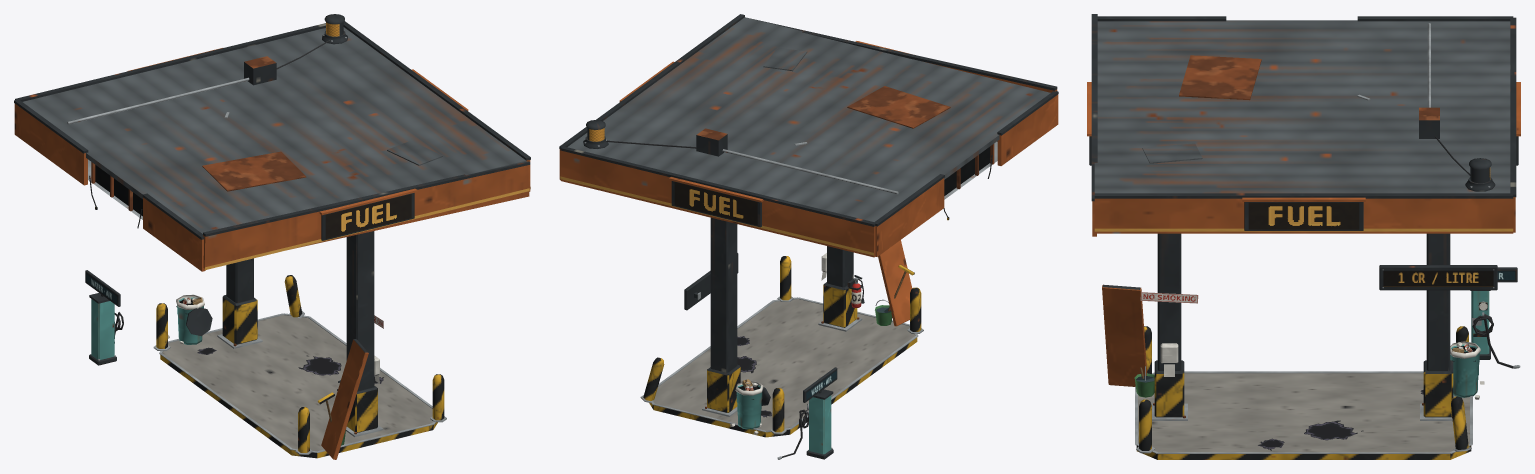
File: PumpCanopy.fbx
The picture shows the model from 3 angles, left to right: view 1: azimuth 30°, elevation 25°; view 2: azimuth 150°, elevation 25°; view 3: azimuth 270°, elevation 25°; orthographic projection. The views are drawn at different scales.
Parts seen in each view (by area): view 1: PumpCanopy, Neon FUEL, Neon Strip, Neon FUEL E; view 2: PumpCanopy, Neon FUEL, Neon Strip; view 3: PumpCanopy, Neon FUEL, Neon Price, Neon Strip, Beacon rotor.
Part boxes in pixels (bbox=[...]): PumpCanopy: bbox=[14, 21, 530, 459]; Neon FUEL: bbox=[325, 194, 411, 238]; Neon Strip: bbox=[205, 187, 530, 270]; Neon FUEL E: bbox=[368, 199, 389, 228]; PumpCanopy: bbox=[559, 14, 1058, 459]; Neon FUEL: bbox=[674, 182, 757, 225]; Neon Strip: bbox=[560, 176, 873, 255]; PumpCanopy: bbox=[1087, 14, 1520, 459]; Neon FUEL: bbox=[1248, 202, 1359, 229]; Neon Price: bbox=[1383, 270, 1493, 286]; Neon Strip: bbox=[1094, 228, 1513, 231]; Beacon rotor: bbox=[1469, 158, 1491, 183].
Bounding box in the file's own units: 7.18 × 5.92 × 7.26.
